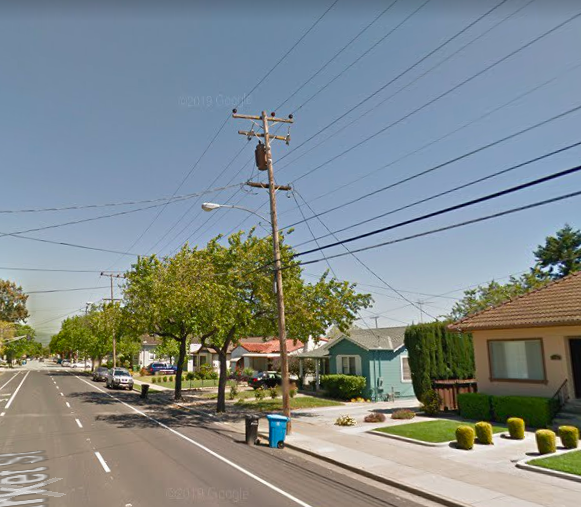utility_pole: (222, 99, 298, 196)
